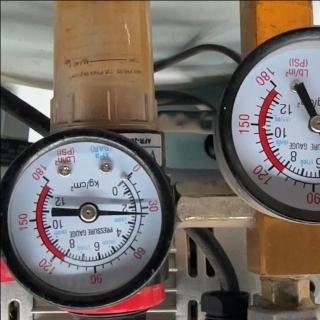gauge: (1, 121, 173, 313), (213, 11, 319, 229), (78, 201, 99, 223), (120, 163, 140, 183), (34, 167, 54, 187), (262, 72, 282, 92), (308, 114, 320, 134), (141, 208, 151, 218)
